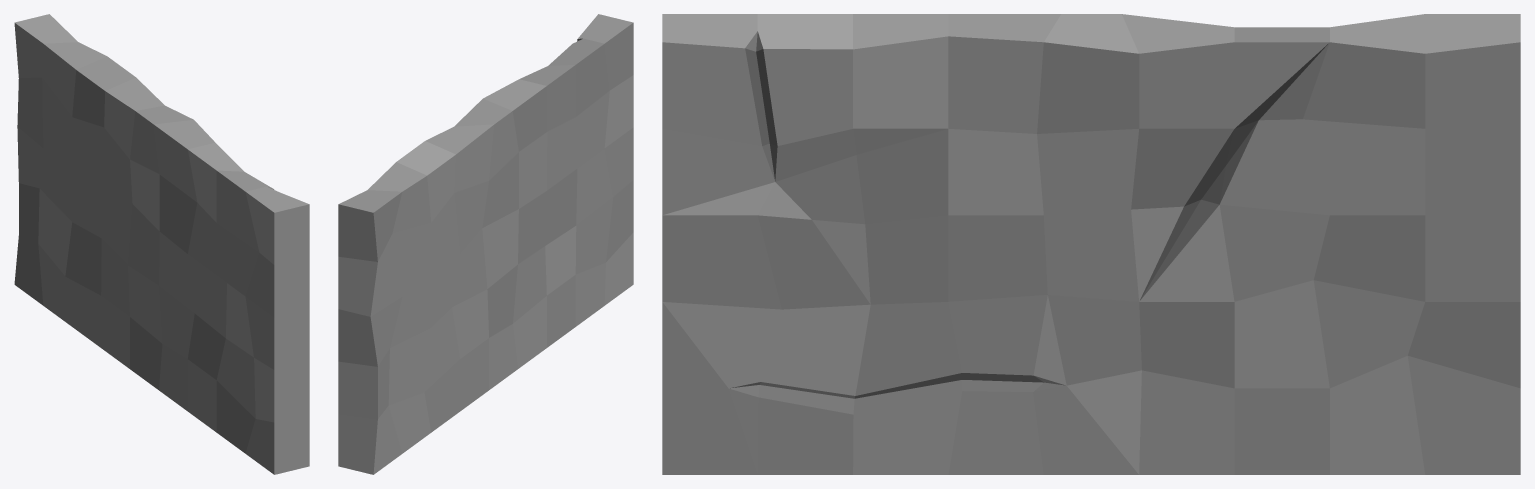
File: Fixed Mesh 4.fbx
3 renders of one model, left to right at view 1: azimuth 30°, elevation 25°; view 2: azimuth 150°, elevation 25°; view 3: azimuth 270°, elevation 25°, orthographic. The views are drawn at different scales.
Parts seen in each view (by area): view 1: Cube.023; view 2: Cube.023; view 3: Cube.023.
Part boxes in pixels (x1,y1,x2,y2): Cube.023: (14,14,309,474); Cube.023: (338,14,633,474); Cube.023: (662,14,1520,474).
Size of the model in its own units: 60.11 by 428 by 770.
